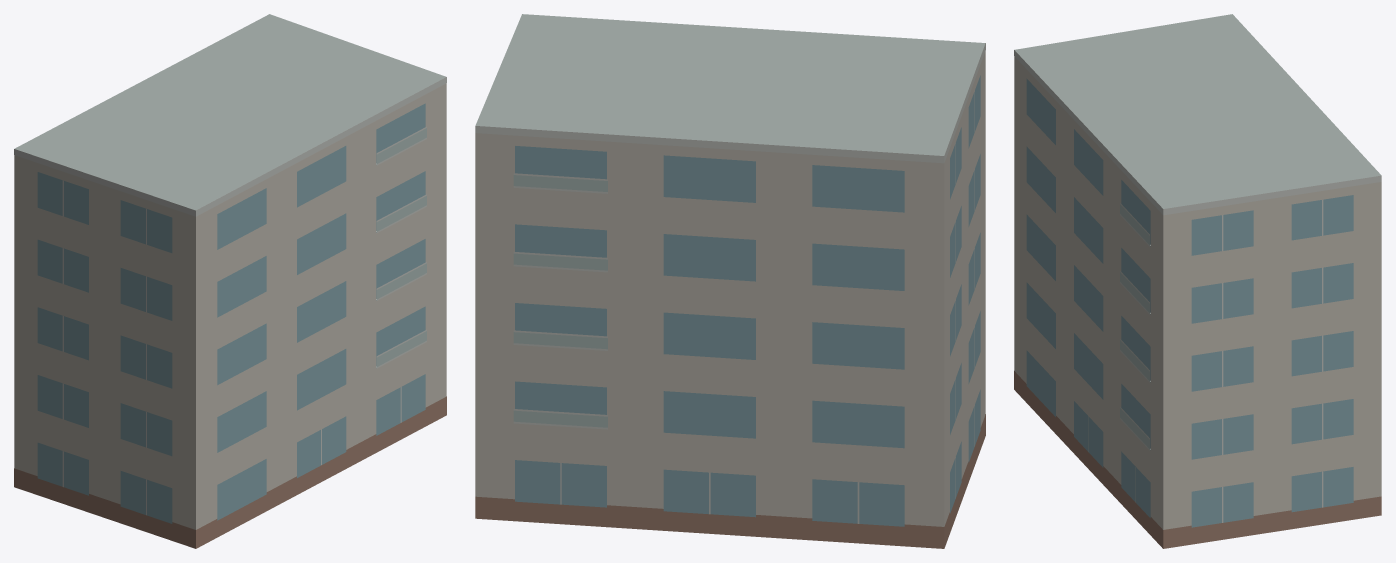
Rendered from survey-upis-32850314.glb.
3 views of the same model, side by side, from view 1: azimuth 30°, elevation 25°; view 2: azimuth 150°, elevation 25°; view 3: azimuth 270°, elevation 25° (orthographic). The views are drawn at different scales.
Parts seen in each view (by area): view 1: survey-upis-32850314.tmp; view 2: survey-upis-32850314.tmp; view 3: survey-upis-32850314.tmp.
Part boxes in pixels (x1=…): survey-upis-32850314.tmp: x1=14, y1=14, x2=446, y2=548; survey-upis-32850314.tmp: x1=475, y1=14, x2=985, y2=548; survey-upis-32850314.tmp: x1=1014, y1=14, x2=1381, y2=548.
Size of the model in its own units: 16.33 by 13.25 by 13.
